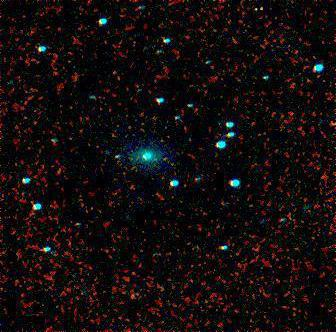star: (245, 0, 275, 23)
